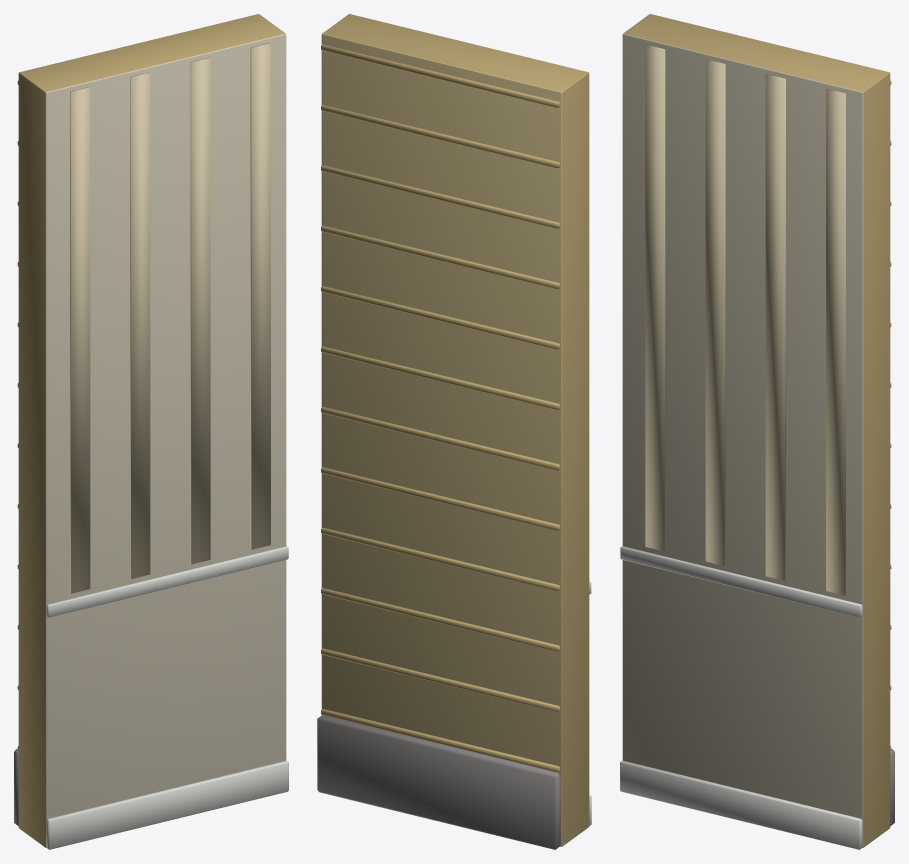
File: wall_half_cream.glb
3 views of the same model, side by side, from view 1: azimuth 30°, elevation 25°; view 2: azimuth 150°, elevation 25°; view 3: azimuth 330°, elevation 25° (orthographic).
Parts seen in each view (by area): view 1: wall_half_cream; view 2: wall_half_cream; view 3: wall_half_cream.
Part boxes in pixels (x1,y1,x2,y2): wall_half_cream: (14,14,288,849); wall_half_cream: (317,14,591,849); wall_half_cream: (620,14,894,849).
Bounding box in the file's own units: 1 × 3 × 0.26.
